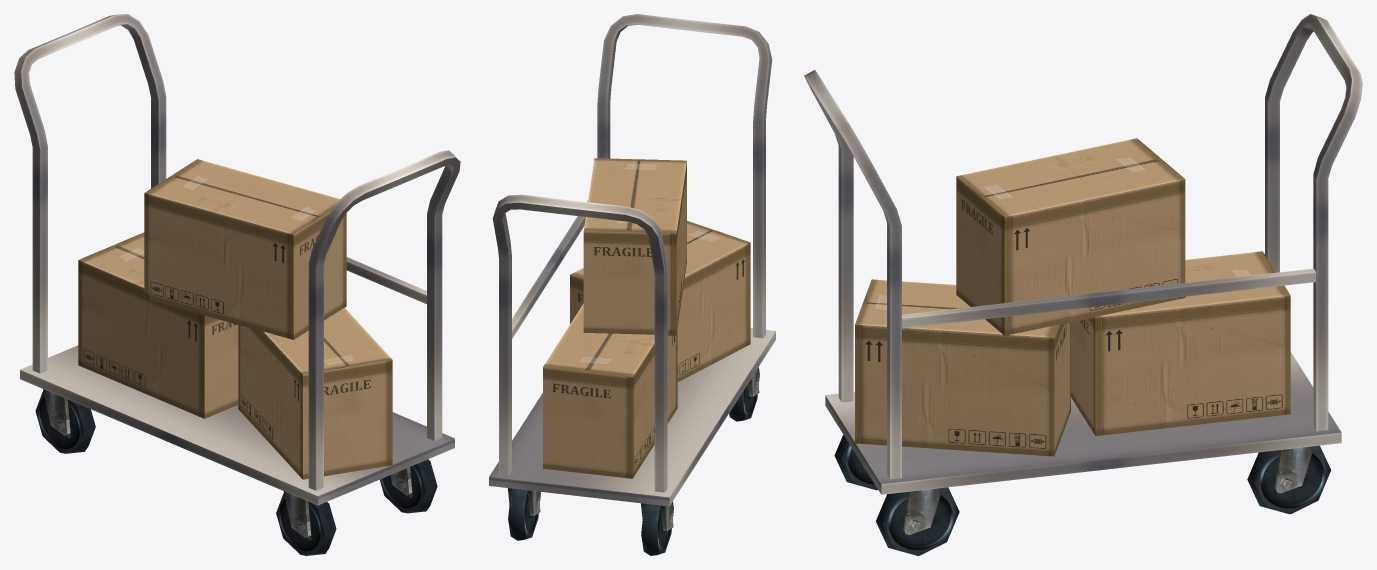
The model's file is obst_courierCart_anim.fbx.
3 views of the same model, side by side, from view 1: azimuth 30°, elevation 25°; view 2: azimuth 150°, elevation 25°; view 3: azimuth 270°, elevation 25° (orthographic). The views are drawn at different scales.
Parts seen in each view (by area): view 1: obst_courierCart_animated; view 2: obst_courierCart_animated; view 3: obst_courierCart_animated.
Part boxes in pixels (box(x1,y1,x2,y2)): obst_courierCart_animated: box(14, 14, 460, 555); obst_courierCart_animated: box(489, 14, 775, 555); obst_courierCart_animated: box(804, 14, 1362, 555).
Bounding box in the file's own units: 80.79 × 115 × 135.
